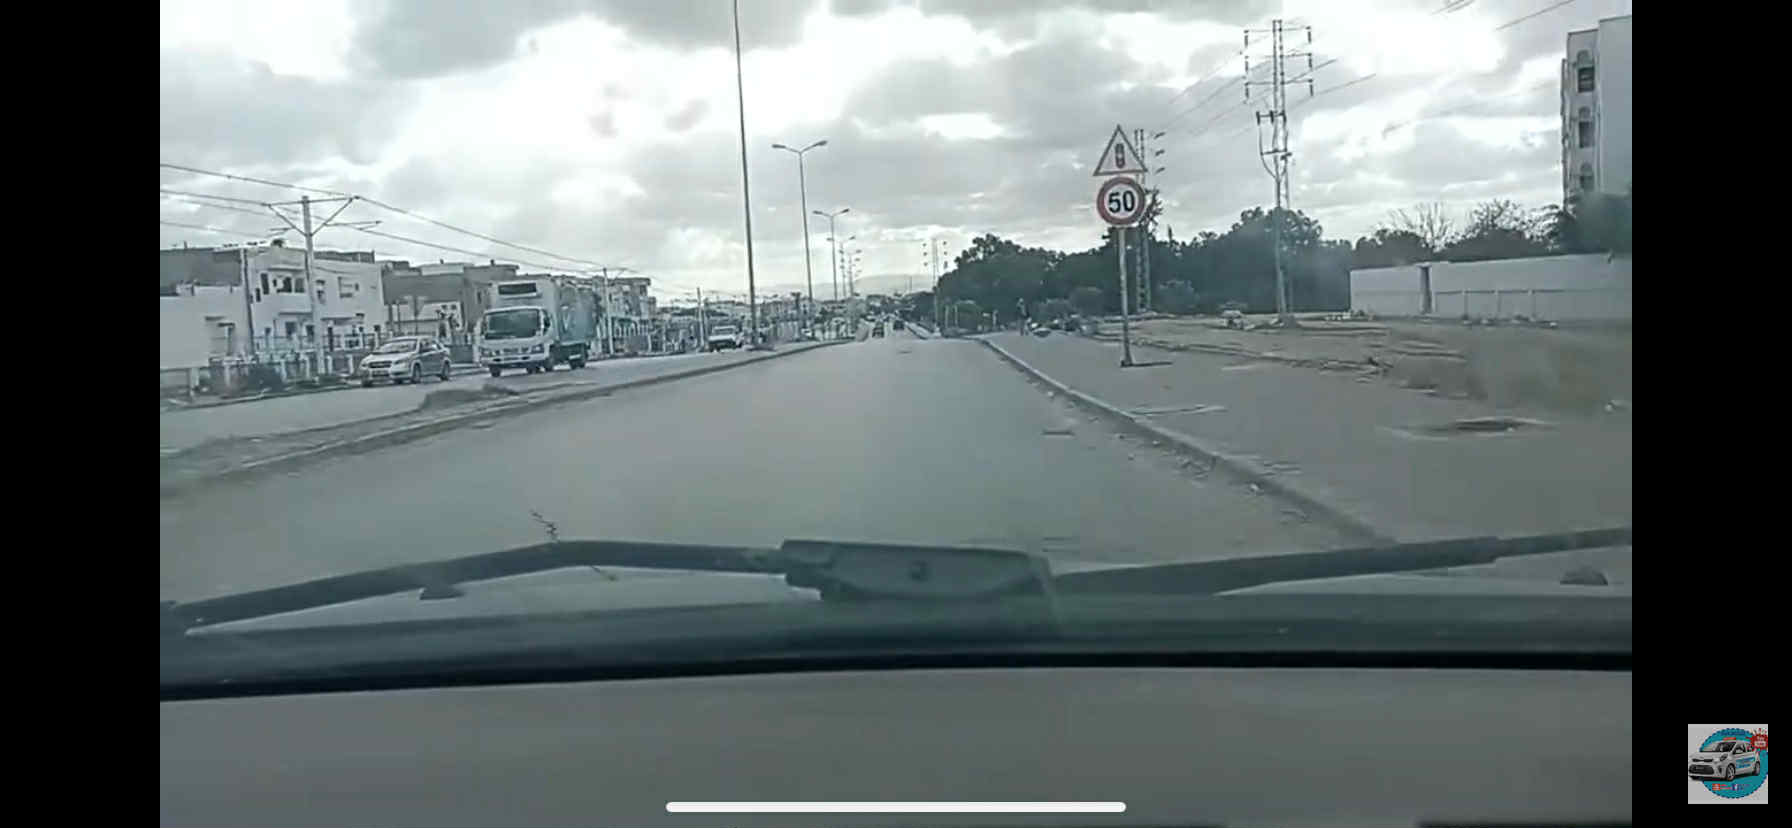SpeedLimit50: (1094, 176, 1147, 228)
